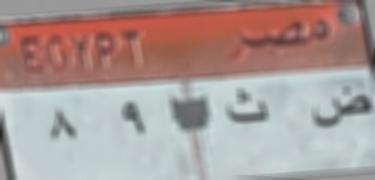8: (44, 105, 79, 145)
9: (118, 97, 150, 138)
daad: (309, 85, 372, 128)
thaa: (224, 85, 272, 126)
